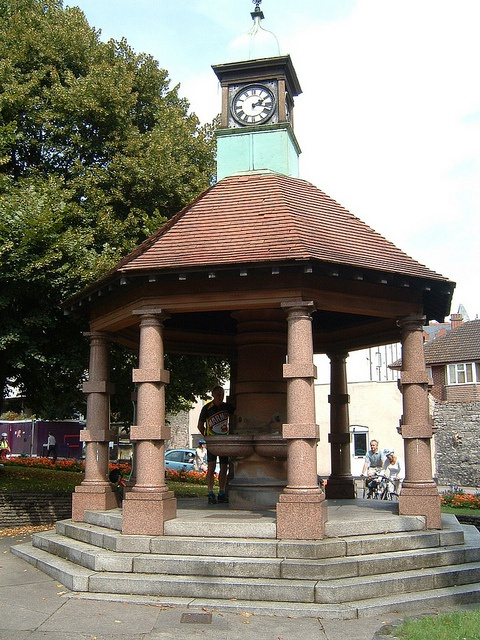non-vehicle: (361, 475, 385, 500), (382, 476, 403, 501)
